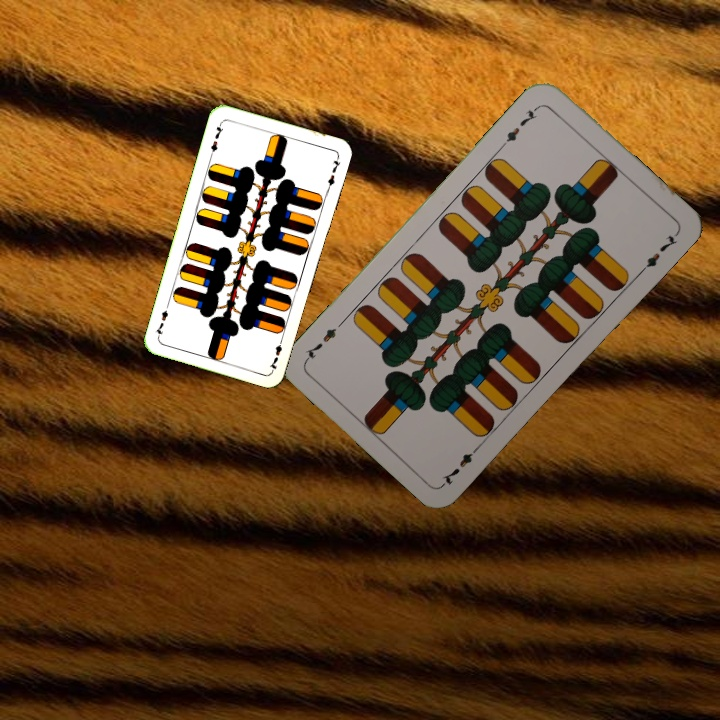E7: (438, 441, 484, 488), (498, 102, 543, 149), (265, 333, 286, 373), (207, 119, 226, 159)
